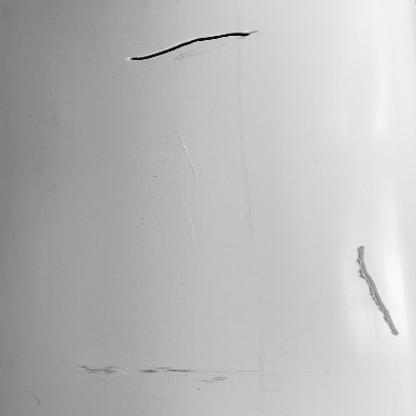fengxi: (127, 30, 256, 61)
sunshang: (352, 245, 403, 338)
